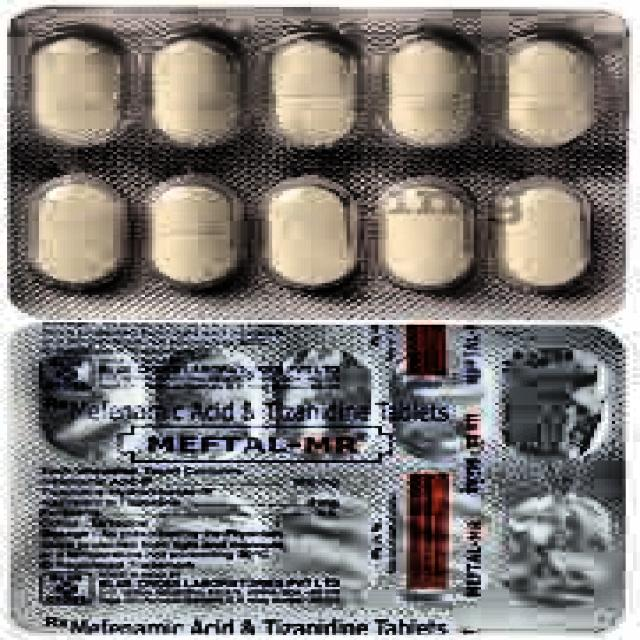Meftal: (108, 414, 418, 470)
